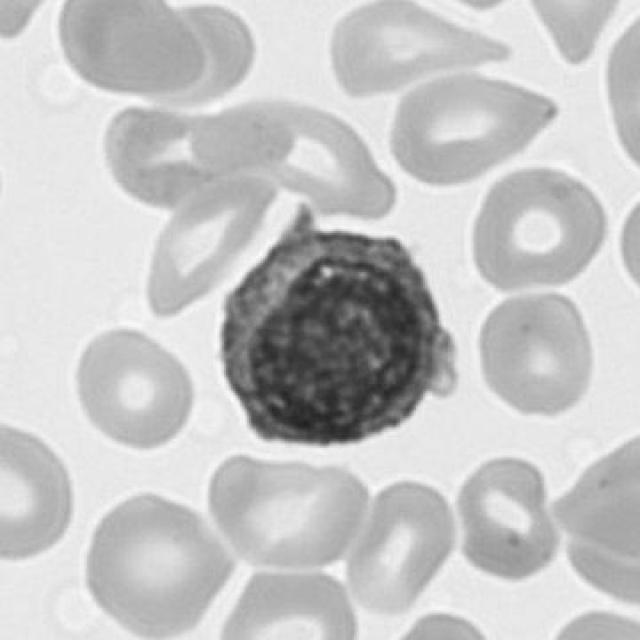RBC: (76, 486, 238, 638), (382, 67, 566, 186), (137, 172, 283, 320), (203, 452, 373, 574), (320, 0, 516, 100), (466, 162, 610, 293), (468, 283, 602, 421), (66, 320, 201, 453), (341, 473, 459, 619), (50, 0, 217, 101), (448, 450, 567, 581), (130, 2, 265, 108), (547, 423, 640, 565), (0, 413, 80, 567), (213, 556, 363, 638), (181, 94, 299, 174), (562, 496, 640, 610), (514, 0, 633, 69), (601, 2, 640, 183), (378, 608, 506, 640), (537, 604, 640, 638), (615, 186, 640, 308), (0, 0, 64, 44)
